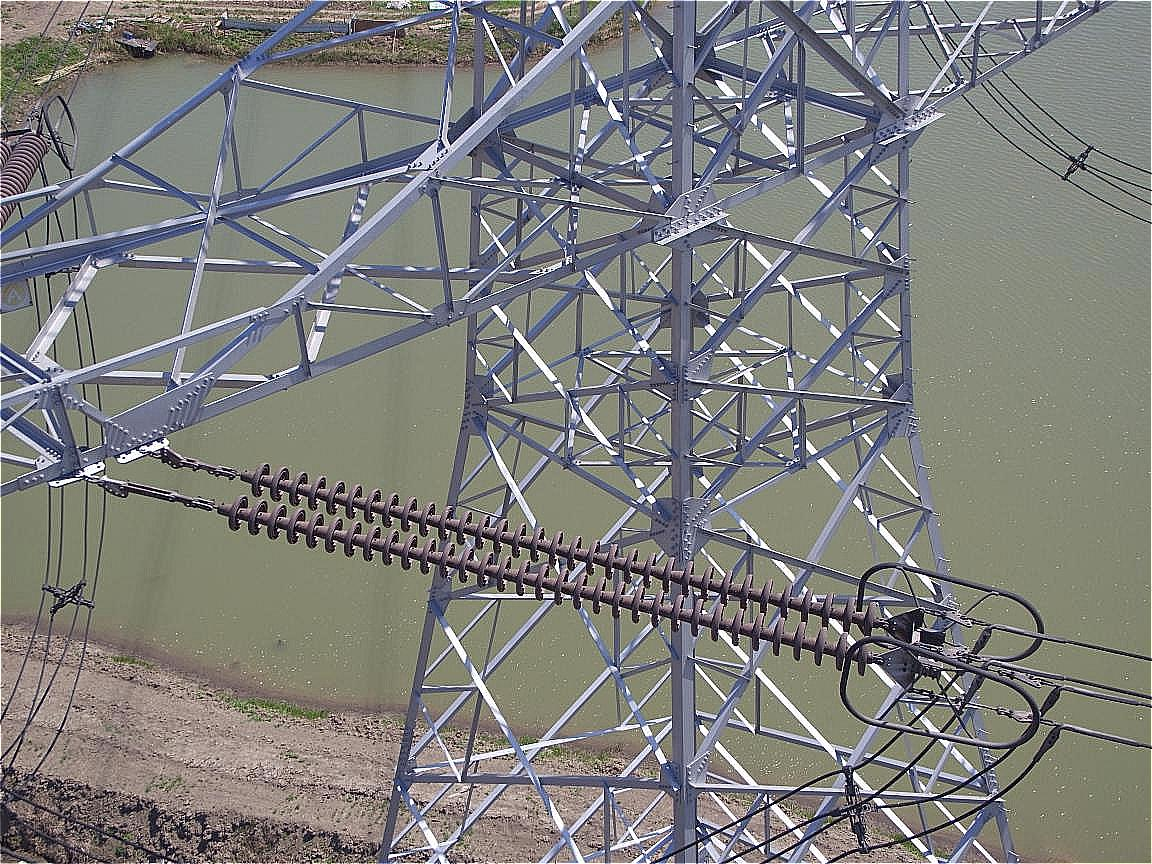insultor1: (197, 459, 906, 679)
